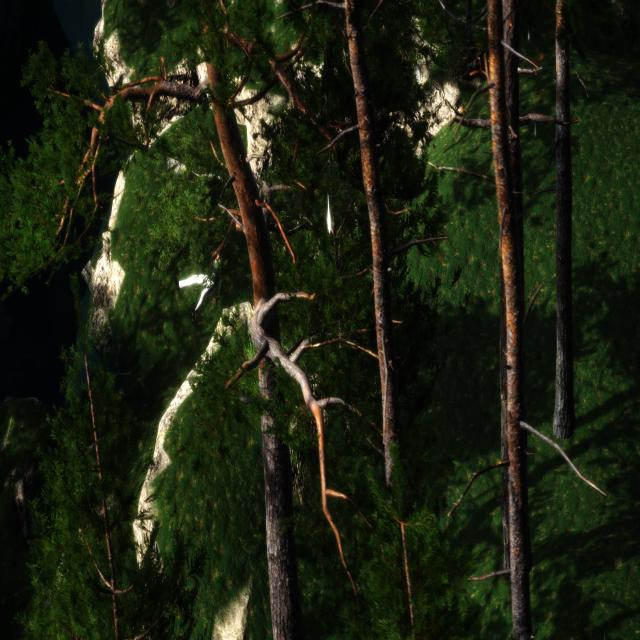Human: (170, 242, 223, 323)
